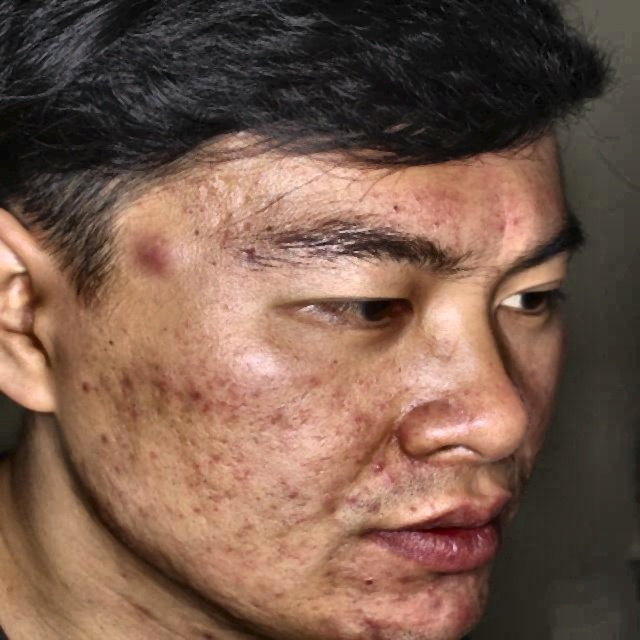pustule: (358, 606, 396, 638), (448, 602, 478, 636), (116, 370, 146, 396), (314, 488, 346, 512), (390, 567, 420, 589), (367, 454, 393, 475), (426, 590, 441, 608)
